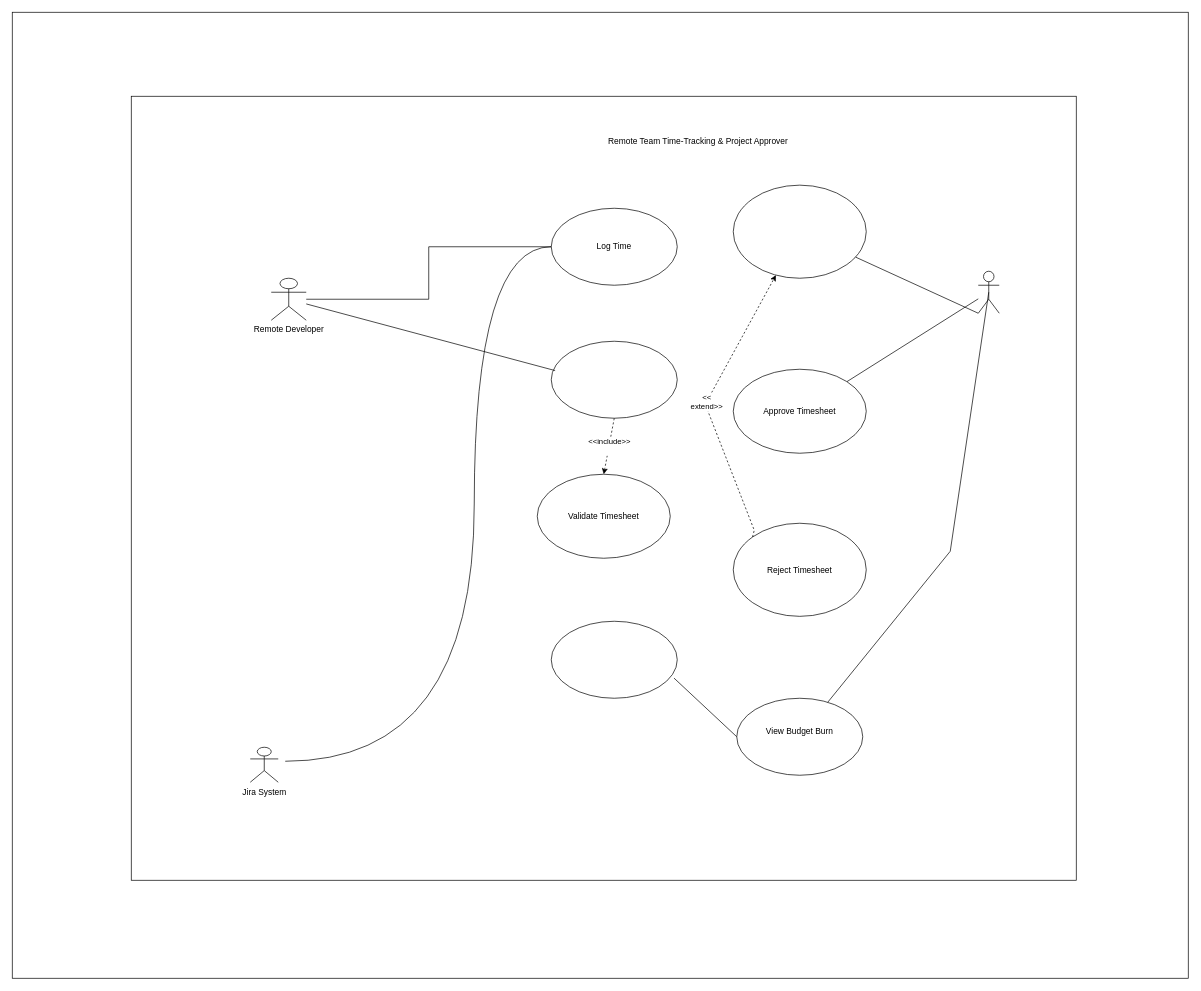
Image size: 1201x991. Some labels were removed from this diagram. The box of each missing label's shape, as (x1, y1, x2, y2) in pixels:
Calculate Project Budget Consumption: (551, 621, 677, 698)
Engineering Manager: (978, 271, 999, 313)
Review Timesheet: (733, 184, 866, 278)
Submit Timesheet: (551, 341, 677, 418)
